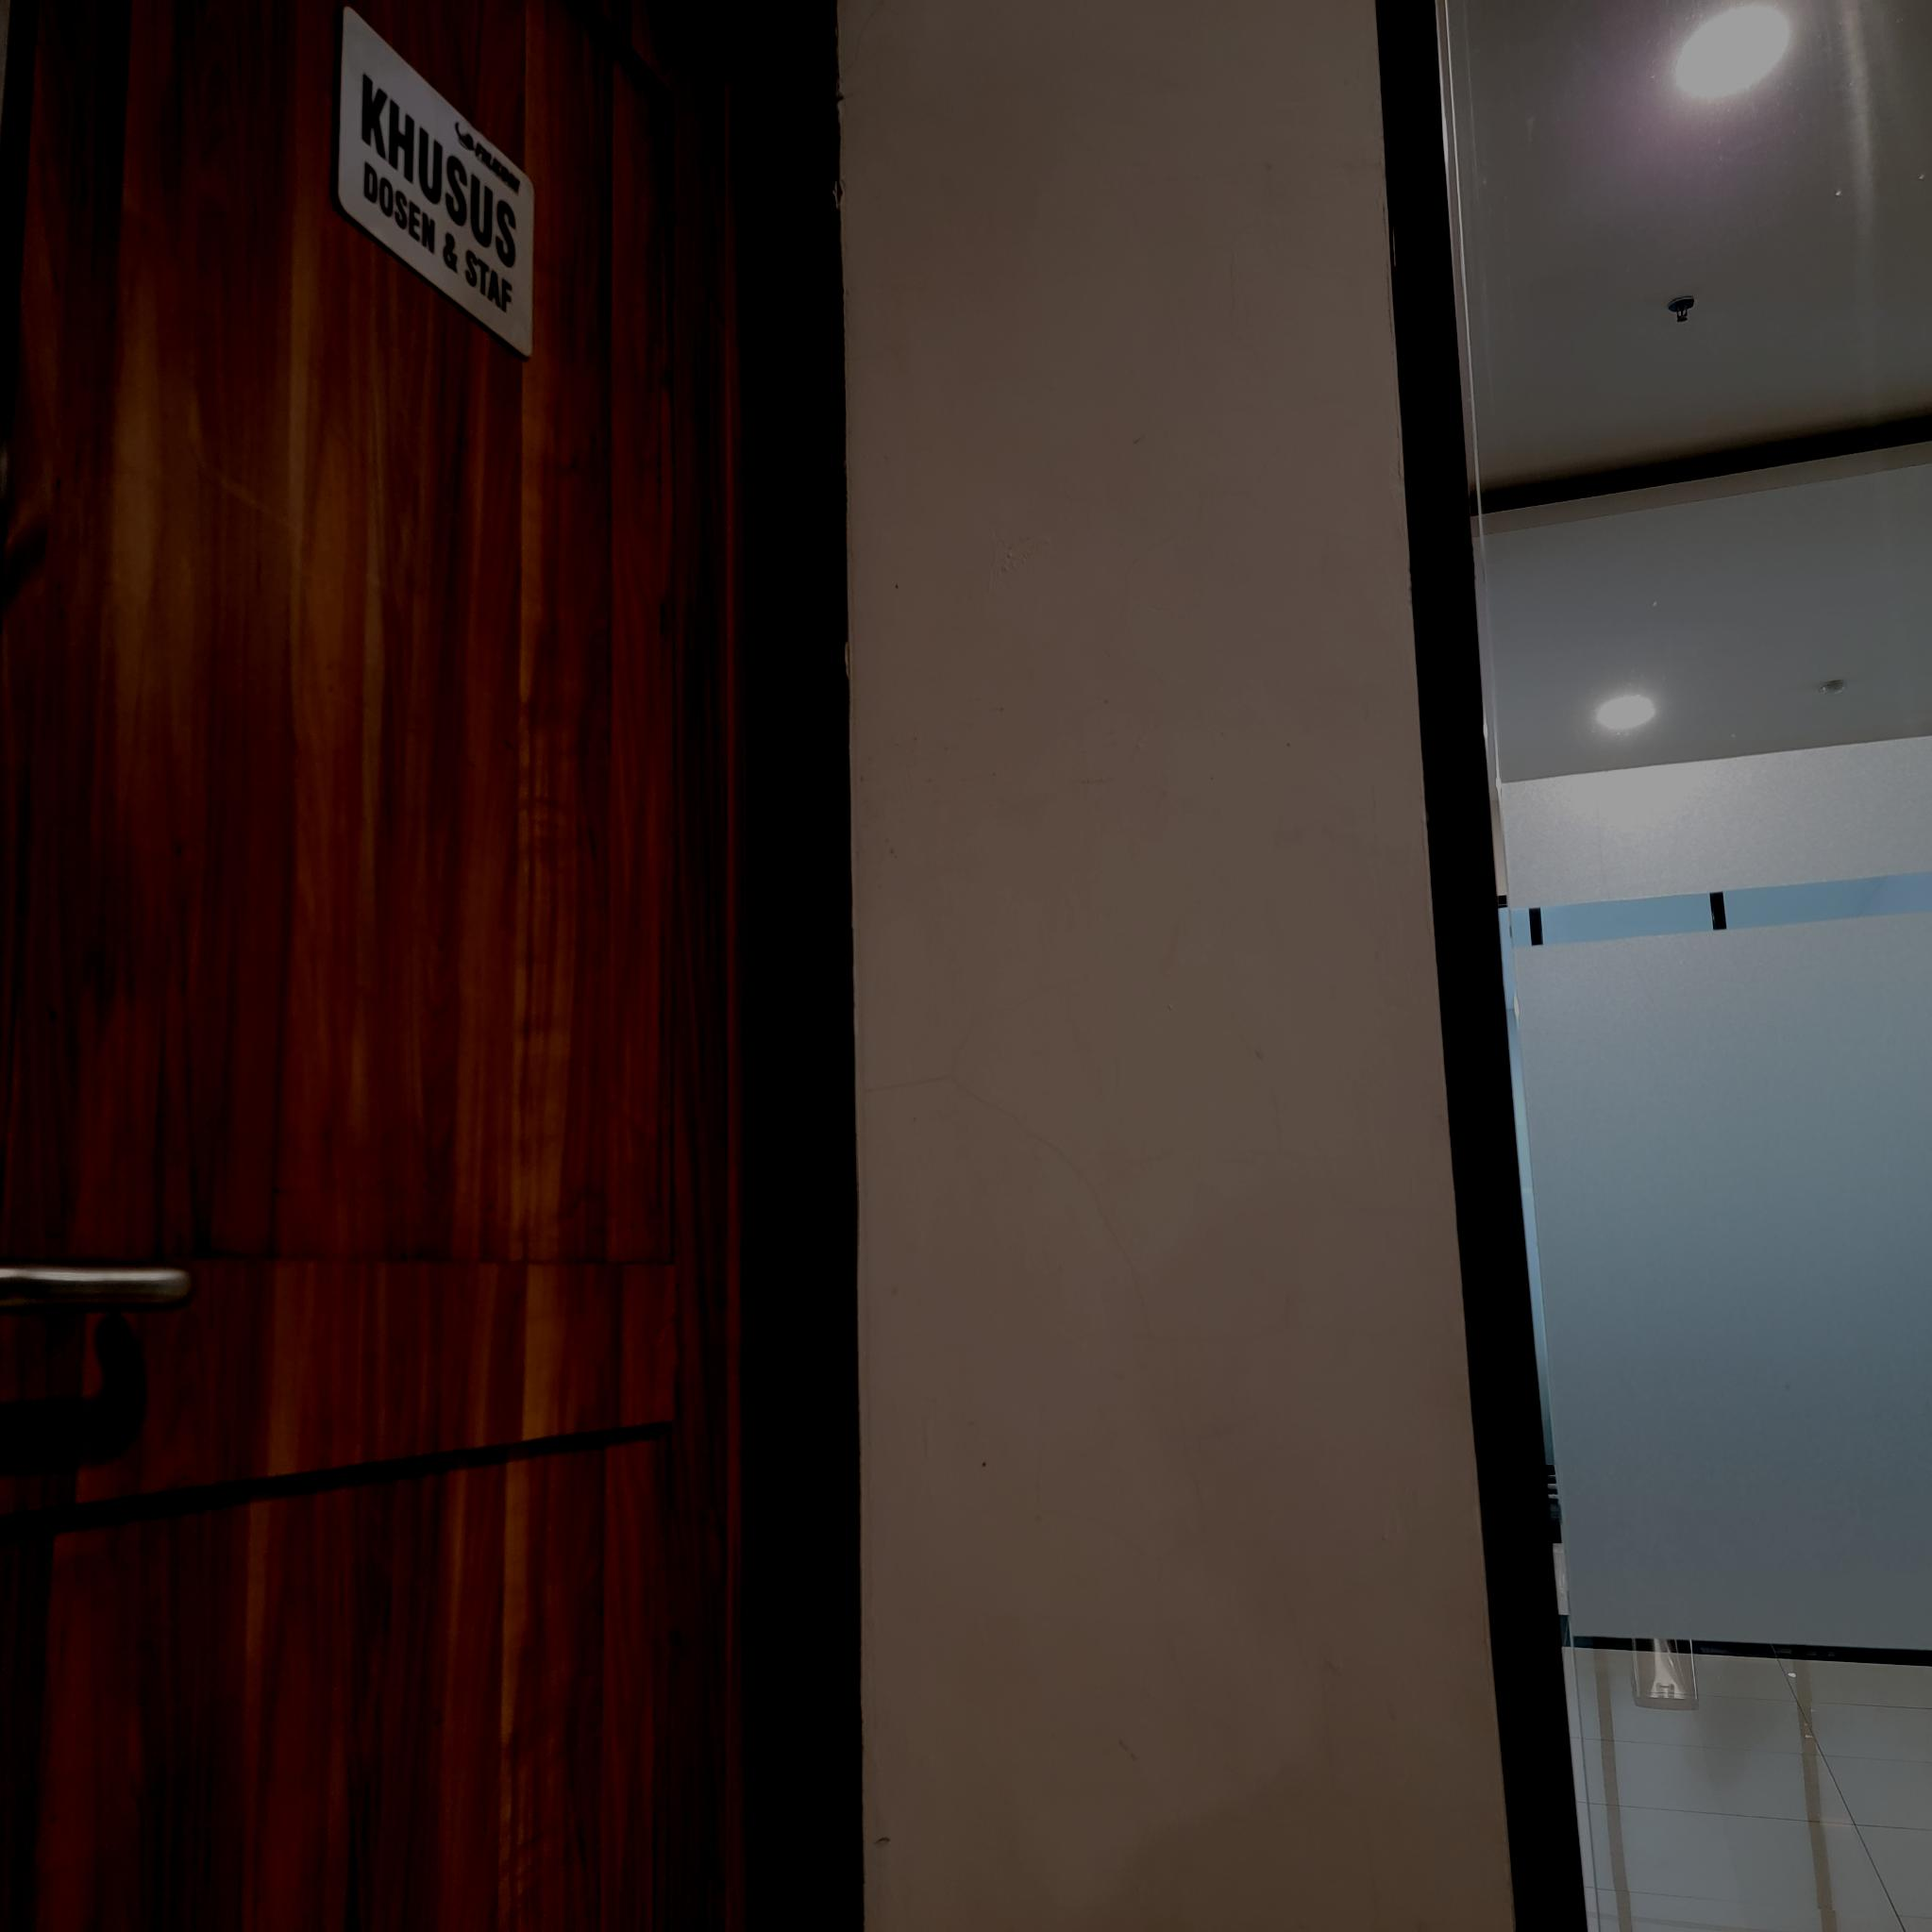plate: (336, 0, 536, 363)
